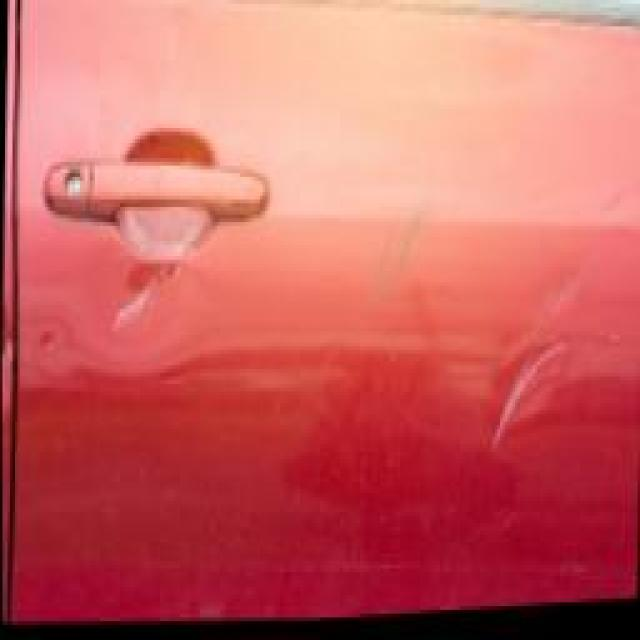Door: (75, 109, 639, 538)
